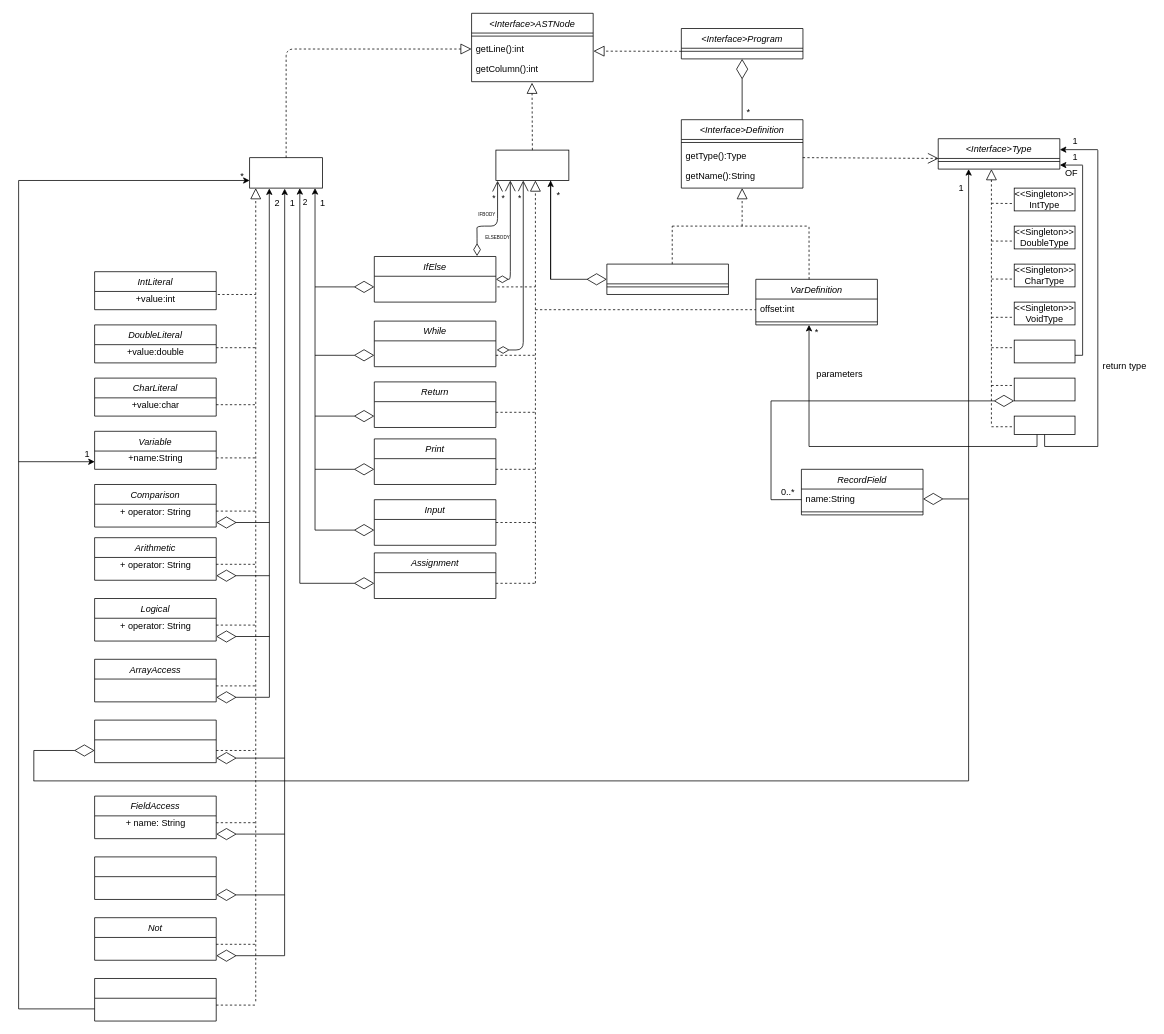
The diagram is 1164 pixels wide and 1034 high, and some of its shapes have lost their labels. Here are the shapes that lost their labels. From the top down, the centre of each, then its label:
At (286,172): "<interface> Expression".
At (532,164): "<interface> Statement".
At (667,278): "FuncDefinition".
At (1044,351): "ArrayType +size: int".
At (1044,389): "StructType".
At (1044,425): "FunctionType".
At (155,741): "Cast".
At (155,877): "UnaryMinus".
At (155,999): "Function".
